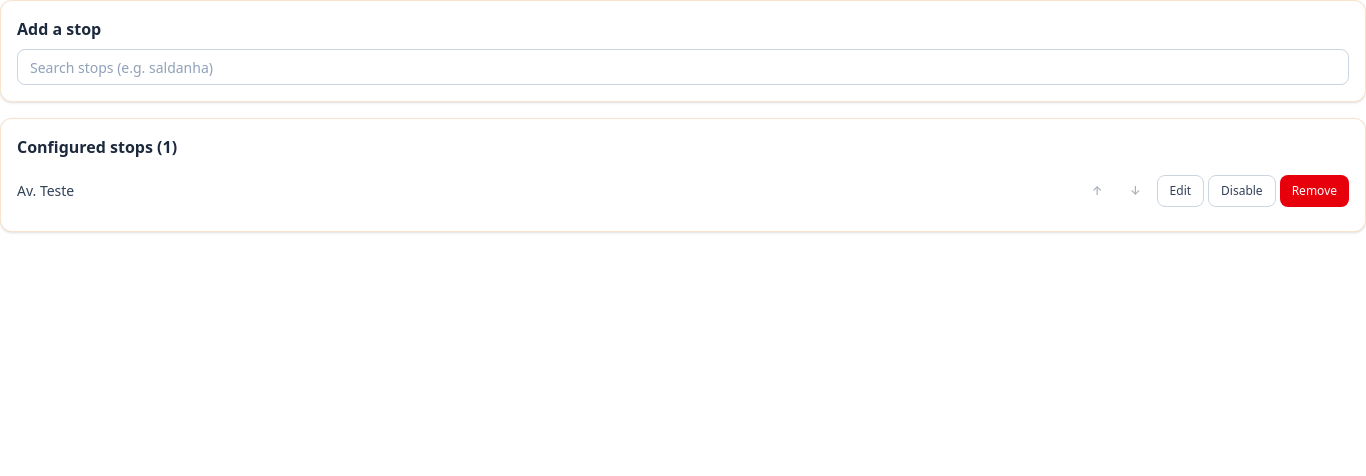
ConfigPanel › shows an inline error for out-of-order thresholds and does not save
The image size is (1366, 476).
Step 1. Click the button "Edit" → (1180, 191), box 1157,175 -> 1204,207
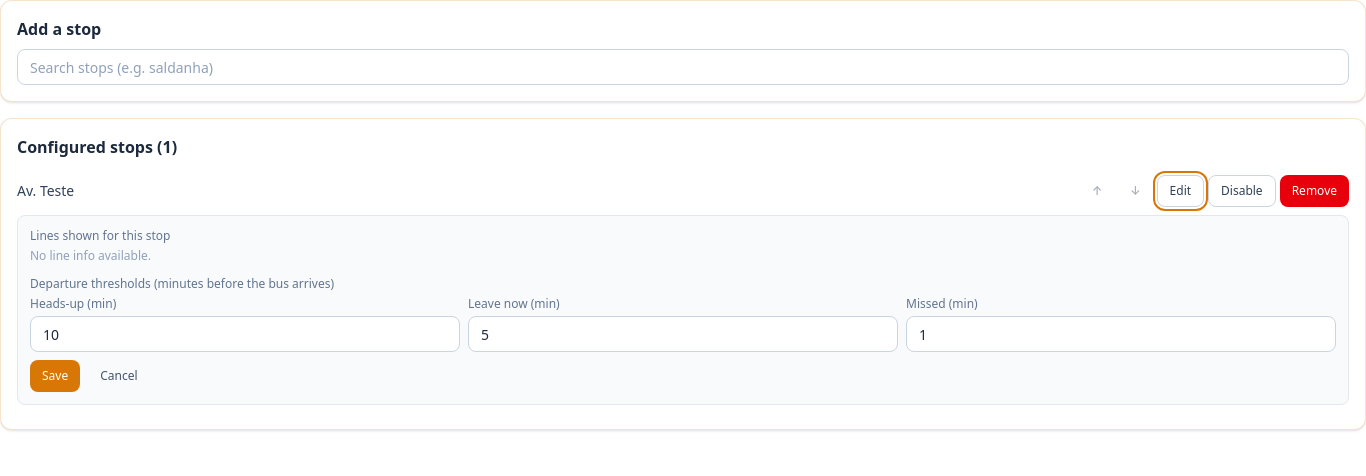
Step 2. Replace the text in the number field labelled "Leave now (min)" with "15" → (683, 334), box 468,316 -> 898,352
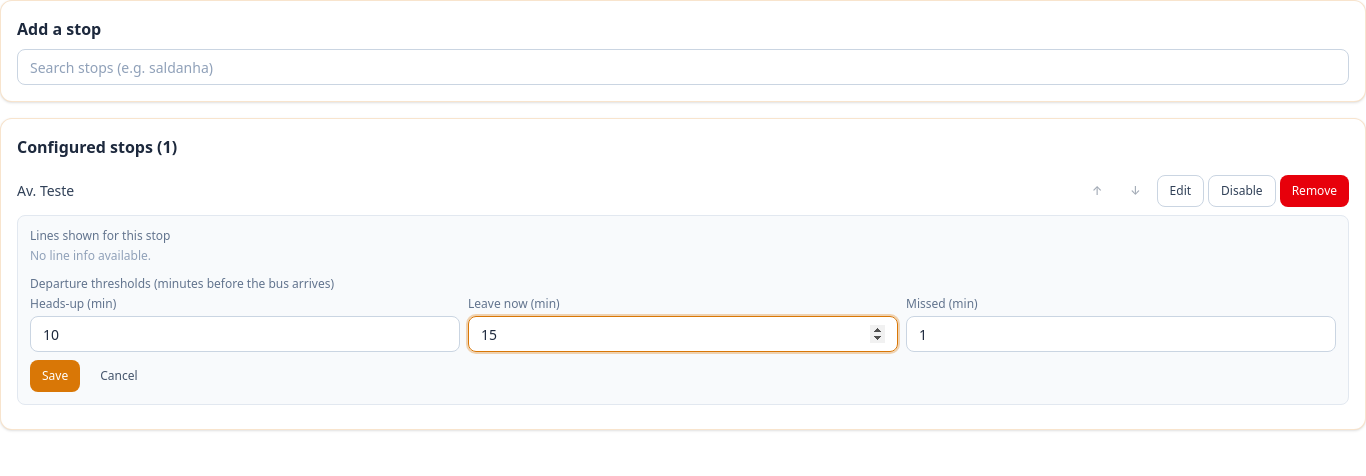
Step 3. Click the button "Save" → (55, 376), box 30,360 -> 80,392
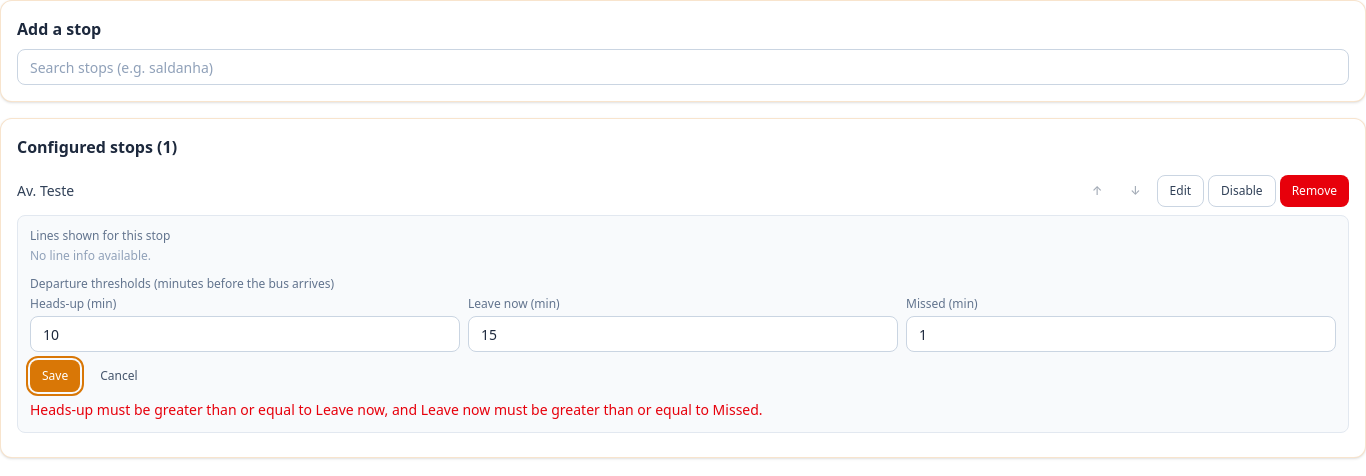
expect the text "Heads-up must be greater than or equal to Leave now" is shown: met, box 30,400 -> 763,419
